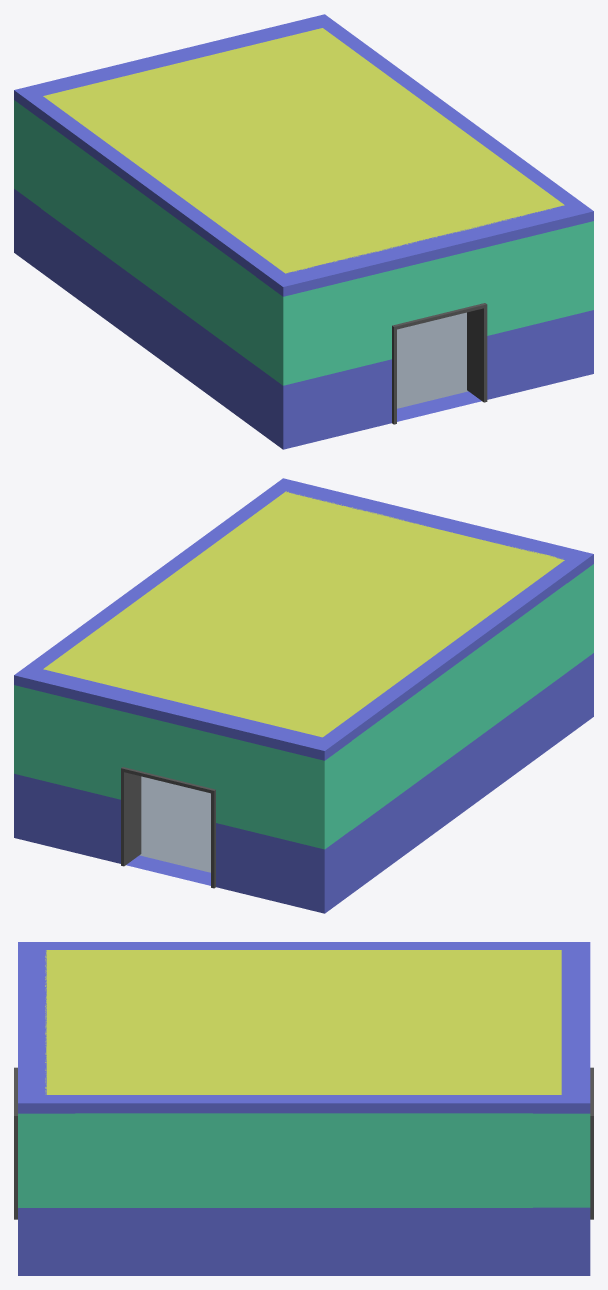
Rendered from EntradaPrincipal.glb.
The picture shows the model from 3 angles, top to bottom: view 1: azimuth 30°, elevation 25°; view 2: azimuth 150°, elevation 25°; view 3: azimuth 270°, elevation 25°; orthographic projection. The views are drawn at different scales.
Visible parts, largest first — view 1: EntradaPrincipal-col; view 2: EntradaPrincipal-col; view 3: EntradaPrincipal-col.
Boxes of the visible parts, bbox=[...] form: EntradaPrincipal-col: bbox=[14, 14, 593, 449]; EntradaPrincipal-col: bbox=[14, 478, 593, 913]; EntradaPrincipal-col: bbox=[14, 942, 593, 1275].
Bounding box in the file's own units: 10 × 5 × 15.21.
